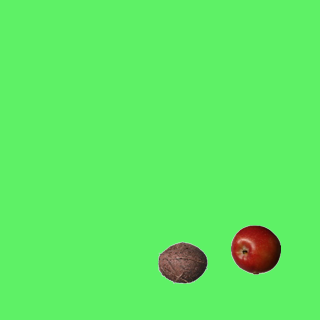Apple Braeburn: (230, 224, 280, 274)
Cocos: (157, 237, 207, 287)
